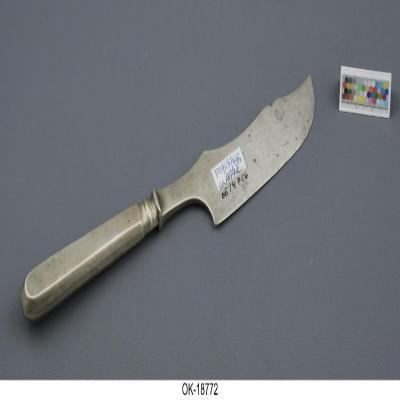dpi: (20, 76, 316, 324)
